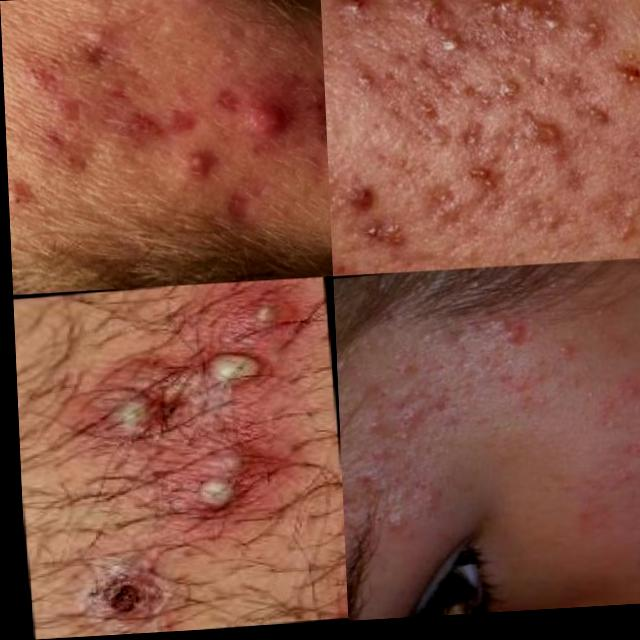8: (15, 53, 63, 103), (513, 122, 578, 155), (493, 320, 535, 362), (376, 505, 411, 552), (327, 0, 382, 25), (6, 180, 38, 221)
9: (563, 25, 616, 70), (484, 60, 530, 110), (179, 146, 214, 184)
blackheads: (117, 87, 213, 163), (348, 202, 413, 266), (396, 0, 451, 53), (493, 0, 571, 36)
dark spot: (217, 18, 244, 51)
pustules: (237, 94, 303, 149)
whiteheads: (99, 382, 166, 446), (184, 473, 249, 528), (226, 298, 298, 347), (201, 350, 265, 397), (199, 445, 253, 485)
